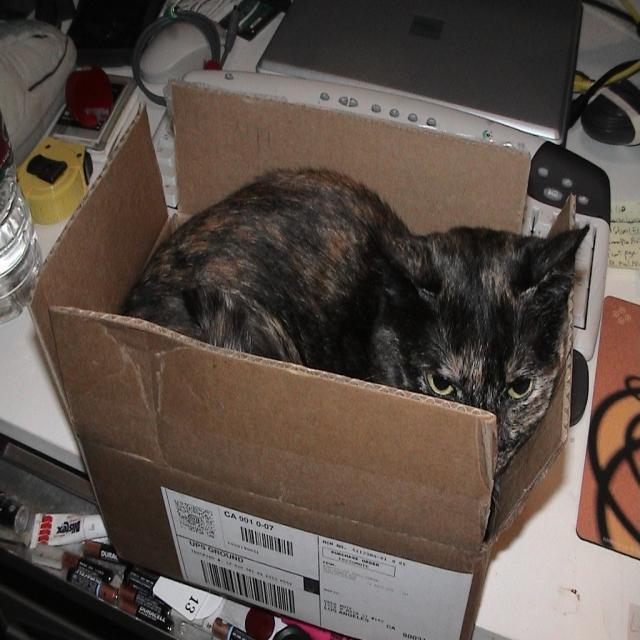Box: (29, 79, 576, 639)
